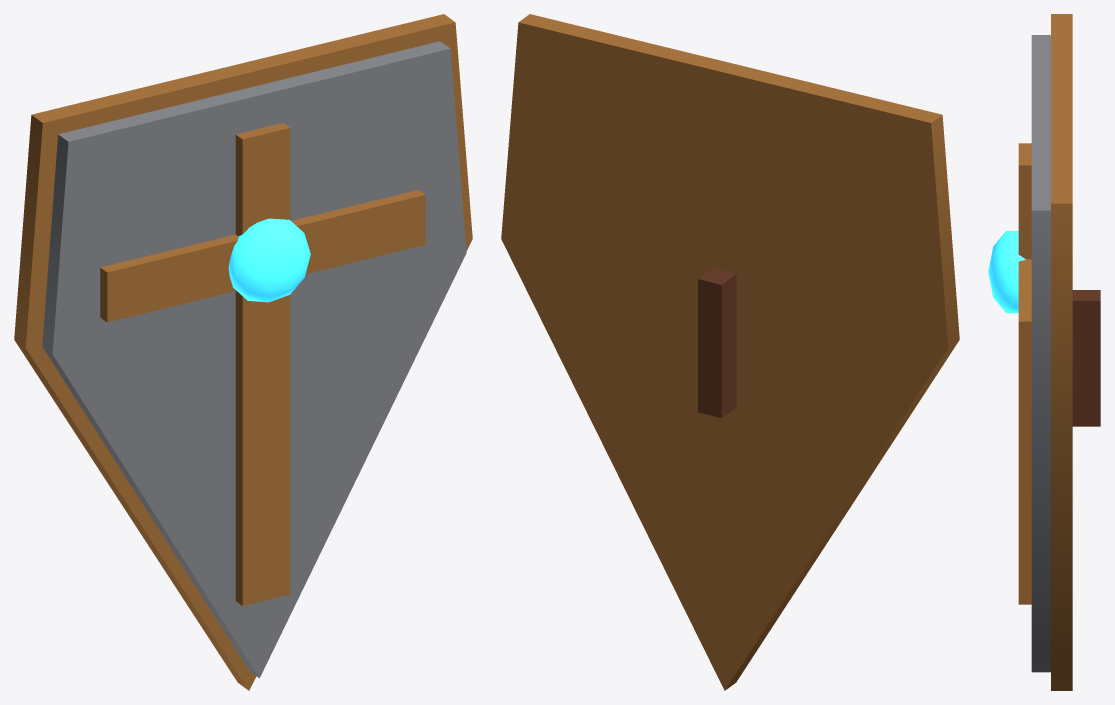
The model's file is arma_escudo_t2_pipa_ferro.glb.
3 renders of one model, left to right at view 1: azimuth 30°, elevation 25°; view 2: azimuth 150°, elevation 25°; view 3: azimuth 270°, elevation 25°, orthographic. The views are drawn at different scales.
Visible parts, largest first — view 1: arma_escudo_t2_pipa_ferro; view 2: arma_escudo_t2_pipa_ferro; view 3: arma_escudo_t2_pipa_ferro.
Part boxes in pixels (<box>): arma_escudo_t2_pipa_ferro: <box>14,14,472,690</box>; arma_escudo_t2_pipa_ferro: <box>501,14,959,690</box>; arma_escudo_t2_pipa_ferro: <box>988,14,1100,690</box>.
Bounding box in the file's own units: 0.5616 × 0.742 × 0.13.
